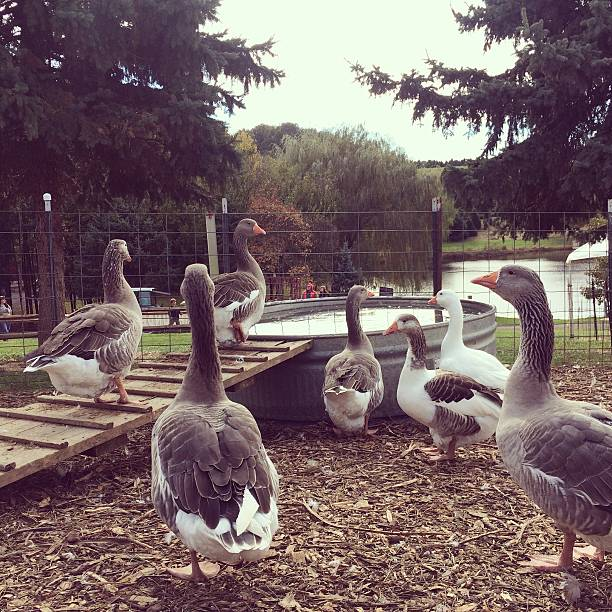goose: (467, 261, 612, 591), (152, 265, 284, 585), (25, 240, 151, 415), (380, 312, 502, 464), (181, 214, 280, 344), (316, 282, 384, 441), (429, 285, 508, 393)
